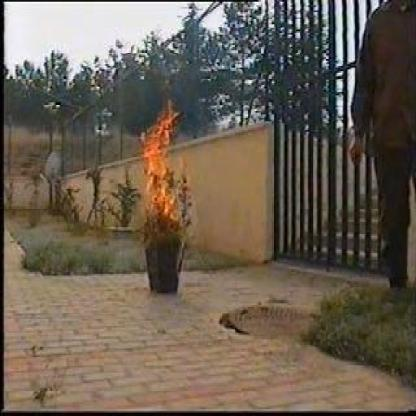foggia-v2-map80-epoch100 - v1 4323: (147, 100, 179, 223)
